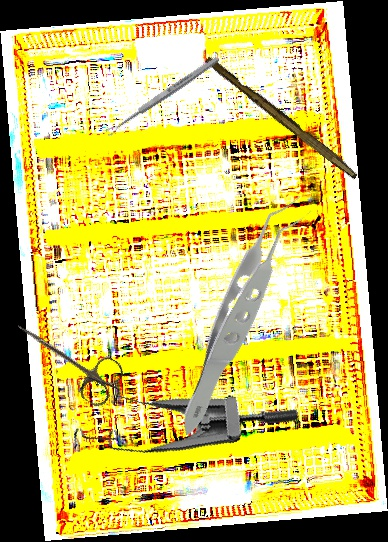Iris Scissors: (3, 307, 128, 410)
Scalpel Handle: (202, 55, 362, 180)
Speculum: (53, 317, 302, 491)
Surgical Spoon: (104, 54, 221, 138)
Tissue Forceps: (109, 189, 382, 439)
